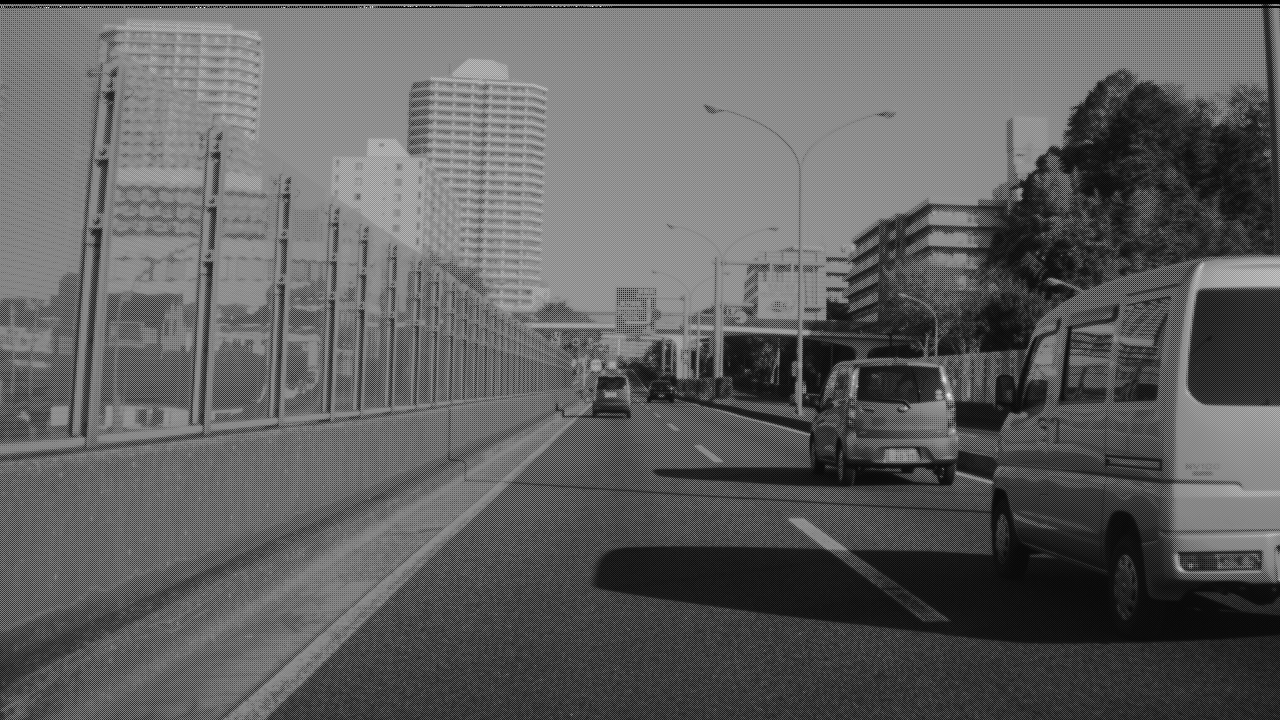pole: (796, 159, 803, 407), (717, 249, 723, 392)
